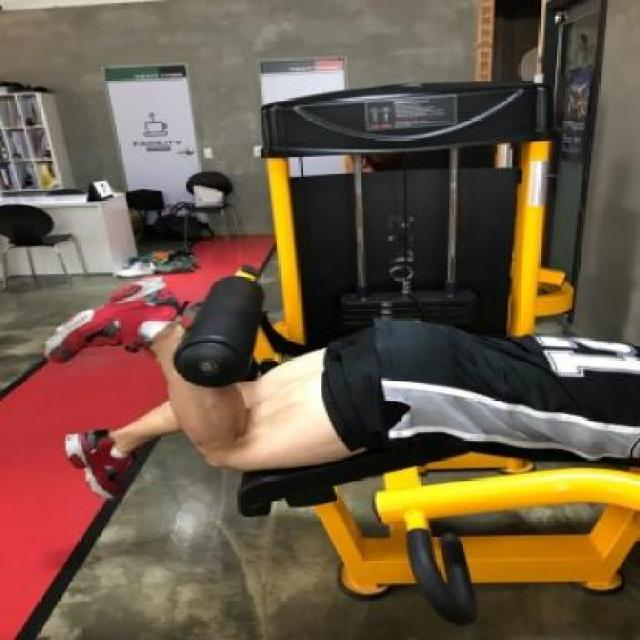reg curl machine: (35, 77, 640, 621)
